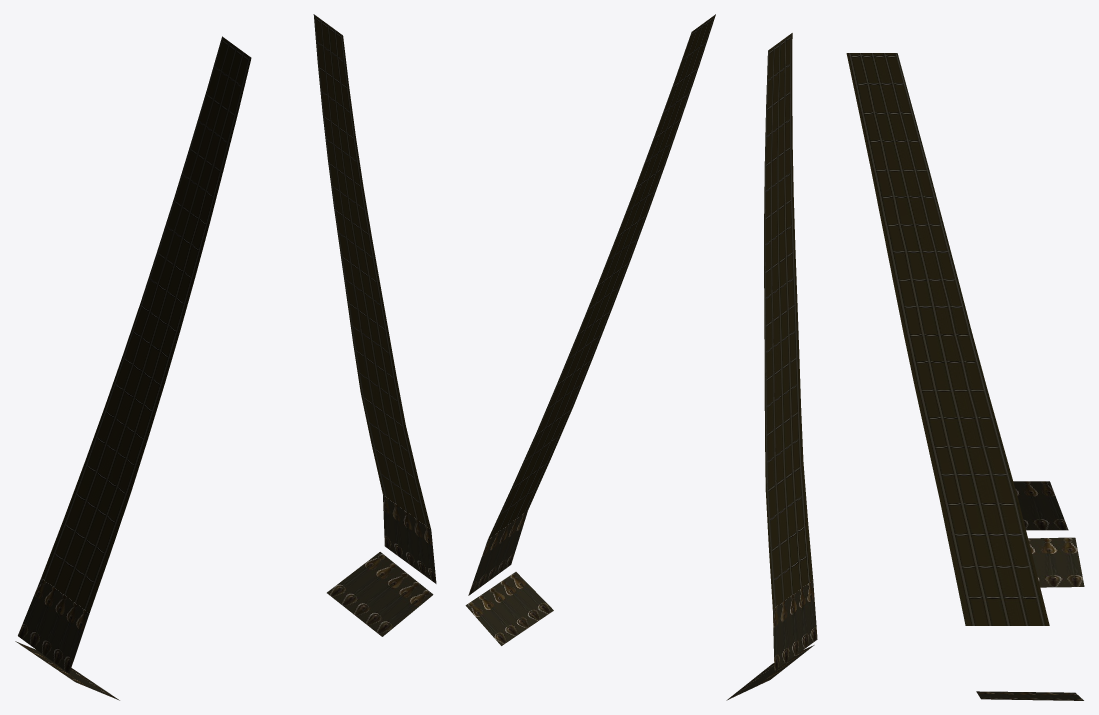
File: warshipL3-rigging_0.fbx
The picture shows the model from 3 angles, left to right: view 1: azimuth 30°, elevation 25°; view 2: azimuth 150°, elevation 25°; view 3: azimuth 270°, elevation 25°; orthographic projection. The views are drawn at different scales.
Parts seen in each view (by area): view 1: rigging, riggingmount_pulleys5, pullys_1b2, pullys_1b4; view 2: rigging, riggingmount_pulleys5, pullys_1b2, pullys_1b4, riggingmount_pulleys3; view 3: rigging, riggingmount_pulleys3, pullys_1b2, riggingmount_pulleys5.
Boxes of the visible parts, <box> form: rigging: <box>41,14,431,612</box>; riggingmount_pulleys5: <box>327,552,433,636</box>; pullys_1b2: <box>18,578,89,673</box>; pullys_1b4: <box>383,495,436,583</box>; rigging: <box>488,14,813,608</box>; riggingmount_pulleys5: <box>465,572,553,645</box>; pullys_1b2: <box>773,580,817,670</box>; pullys_1b4: <box>468,511,527,595</box>; riggingmount_pulleys3: <box>726,645,814,700</box>; rigging: <box>846,53,1049,625</box>; riggingmount_pulleys3: <box>1028,537,1084,587</box>; pullys_1b2: <box>1013,481,1068,530</box>; riggingmount_pulleys5: <box>976,691,1083,700</box>.
Size of the model in its own units: 7353 by 13146 by 4751.
Materials: 1 (1 with a texture image).
